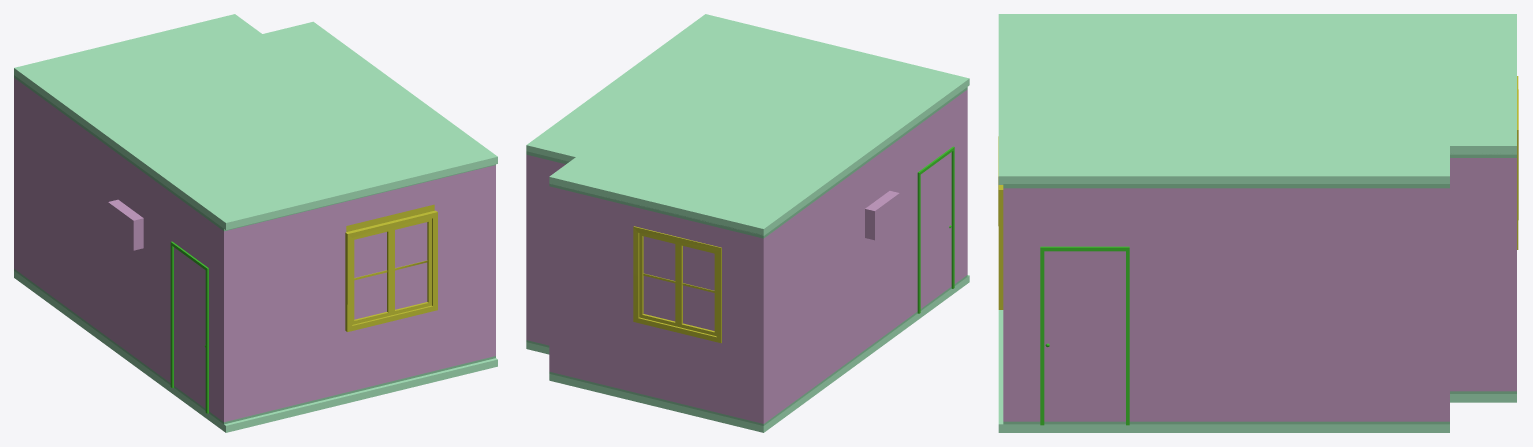
File: FloorPlan14_physics.fbx
3 views of the same model, side by side, from view 1: azimuth 30°, elevation 25°; view 2: azimuth 150°, elevation 25°; view 3: azimuth 270°, elevation 25° (orthographic). The views are drawn at different scales.
Visible parts, largest first — view 1: Walls, Ceiling, WindowPane2, Window (2), Floor, StandardDoorFrame1 (2); view 2: Walls, Ceiling, WindowPane1, Window, Floor, StandardDoorFrame1 (2); view 3: Walls, Ceiling, Floor, StandardDoorFrame1, Window (2).
Part boxes in pixels (x1,y1,x2,y2): Walls: (14, 75, 495, 424); Ceiling: (14, 14, 497, 229); WindowPane2: (354, 222, 427, 319); Window (2): (345, 204, 437, 331); Floor: (14, 271, 497, 432); StandardDoorFrame1 (2): (170, 241, 208, 413); Walls: (526, 87, 967, 425); Ceiling: (526, 14, 969, 235); WindowPane1: (643, 236, 714, 330); Window: (633, 226, 721, 343); Floor: (526, 275, 969, 432); StandardDoorFrame1 (2): (917, 146, 954, 313); Walls: (1003, 153, 1516, 424); Ceiling: (998, 14, 1516, 184); Floor: (998, 310, 1516, 432); StandardDoorFrame1: (1040, 246, 1129, 425); Window (2): (998, 136, 1003, 309).
Bounding box in the file's own units: 418 × 295 × 542.
